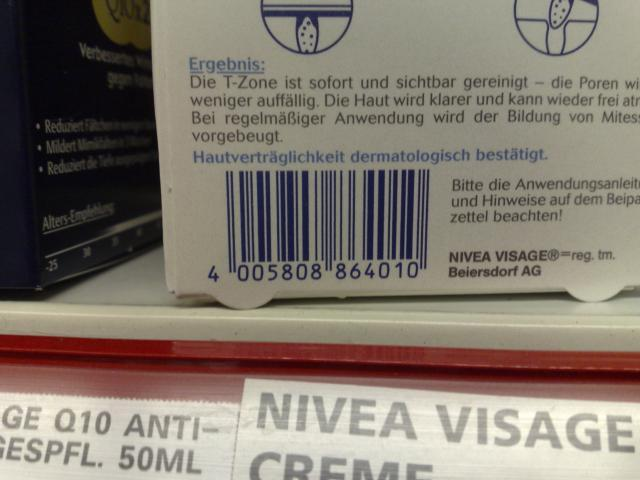Barcode: (202, 164, 436, 287)
